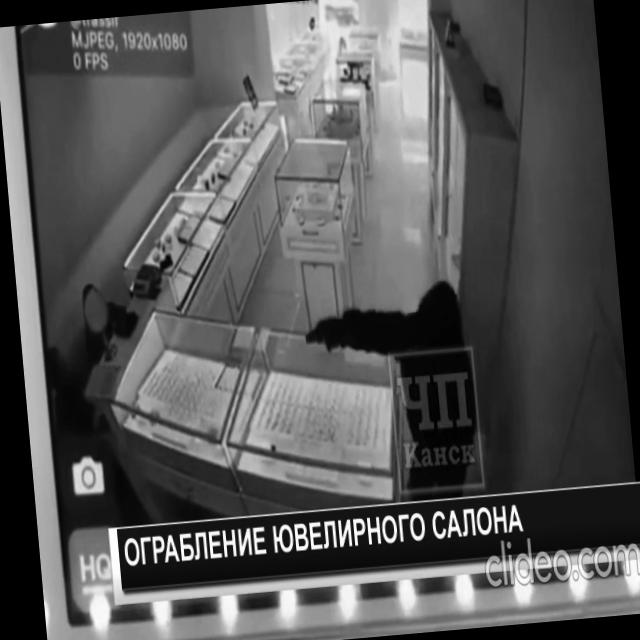gun: (304, 308, 330, 351)
person with a gun: (301, 276, 484, 507)
